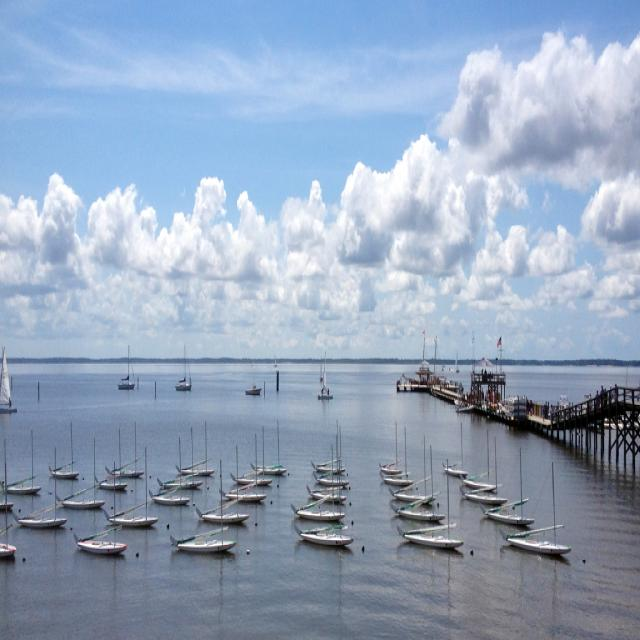Boat: (0, 334, 574, 560), (297, 502, 353, 548)
